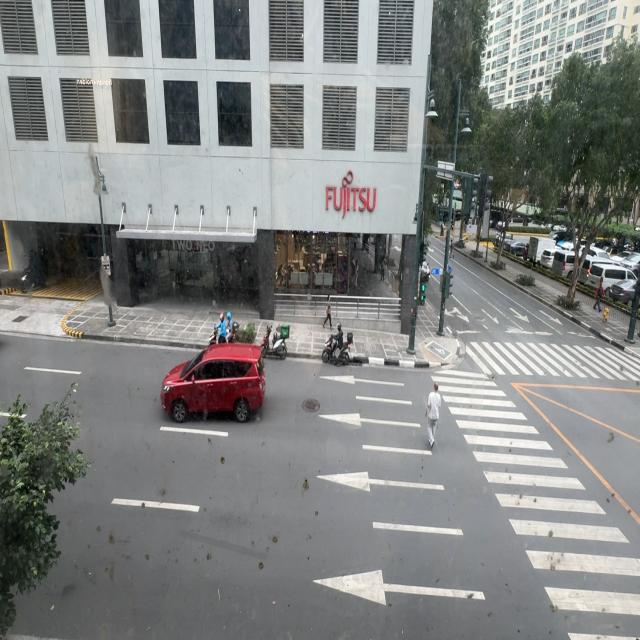jaywalking: (427, 376, 442, 455)
pedestrain: (592, 275, 608, 318), (325, 289, 335, 335)
